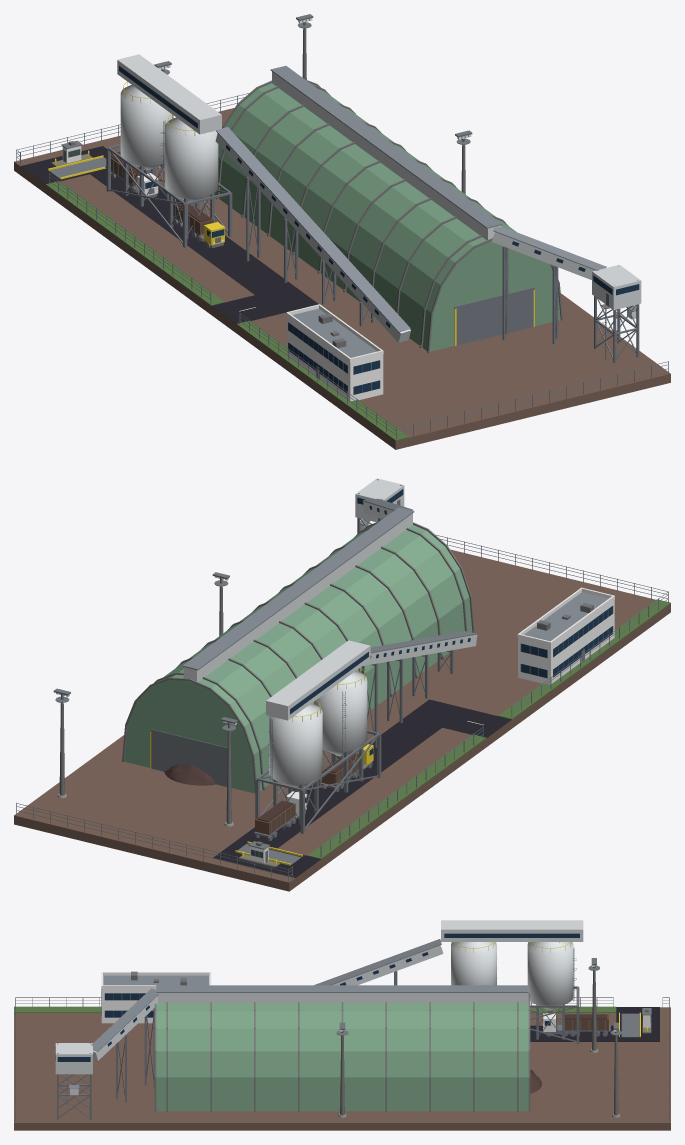
Rendered from top-prebuilt_close.fbx.
The picture shows the model from 3 angles, top to bottom: view 1: azimuth 30°, elevation 25°; view 2: azimuth 150°, elevation 25°; view 3: azimuth 270°, elevation 25°; orthographic projection. The views are drawn at different scales.
Parts seen in each view (by area): view 1: a1078_0_top-prebuilt_close; view 2: a1078_0_top-prebuilt_close; view 3: a1078_0_top-prebuilt_close.
Boxes of the visible parts, x1,y1,x2,y2 form: a1078_0_top-prebuilt_close: (14, 14, 670, 449); a1078_0_top-prebuilt_close: (14, 478, 670, 891); a1078_0_top-prebuilt_close: (14, 920, 670, 1130).
Bounding box in the file's own units: 50 × 23.5 × 120.
